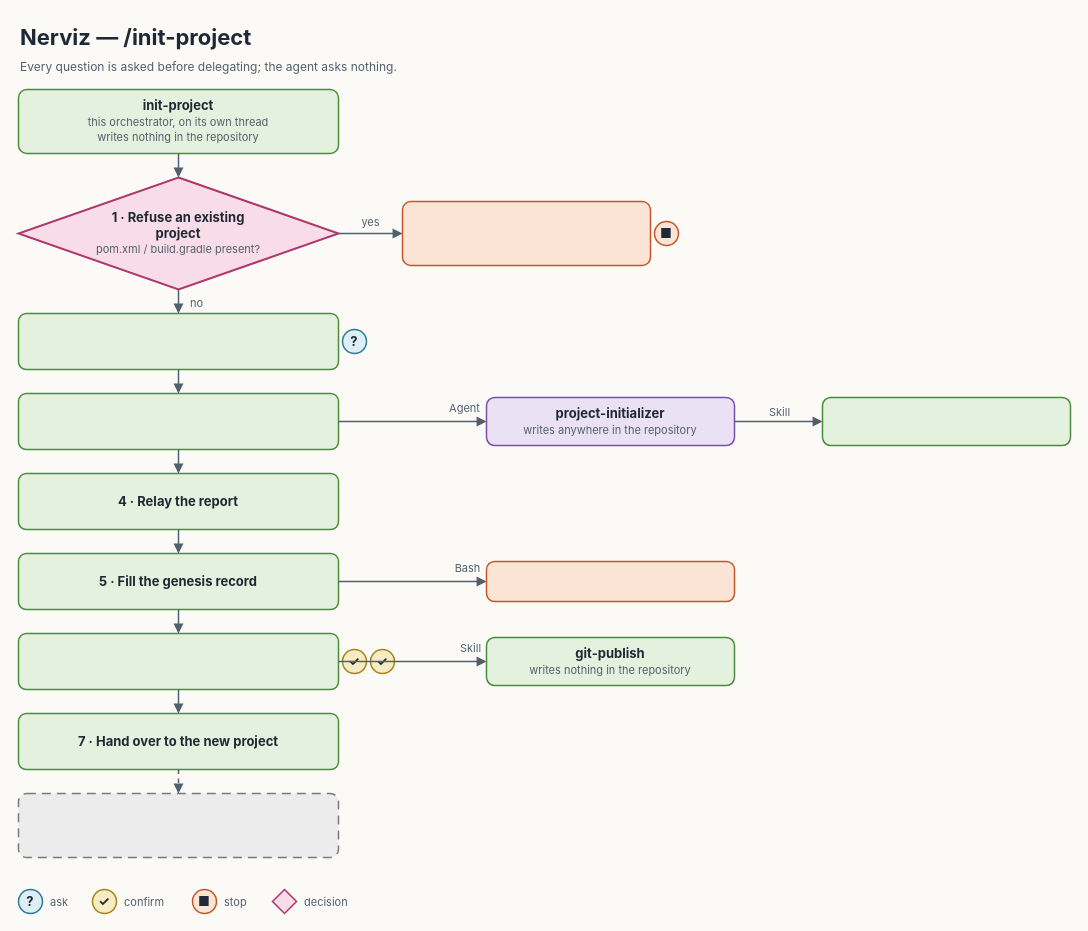
The diagram is 1088 pixels wide and 931 high, and some of its shapes have lost their labels. The shapes that lost their labels are listed below. From the top down, each one's box as (x1, y1, x2, y2) in pixels, then its label:
(401, 200, 651, 266): Ends the run reports what it found suggests /new-feature there
(17, 312, 339, 370): 2 · Interview
(17, 392, 339, 450): 3 · Delegate to project-initializer
(821, 396, 1071, 446): project-bootstrap writes anywhere in the repository
(485, 560, 735, 602): ArchHook audit
(17, 632, 339, 690): 6 · Chain git-publish
(17, 792, 339, 858): Hands over cd ../<artifactId> && claude printed — never called
